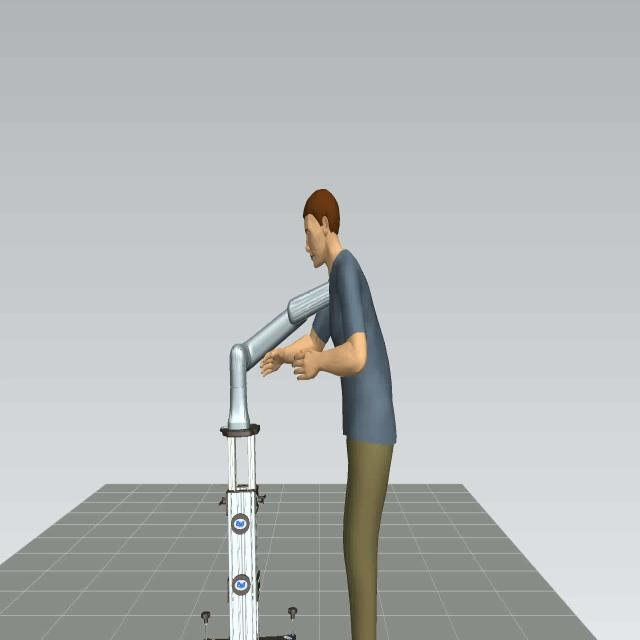human: (259, 187, 397, 638)
robot: (218, 270, 344, 457)
